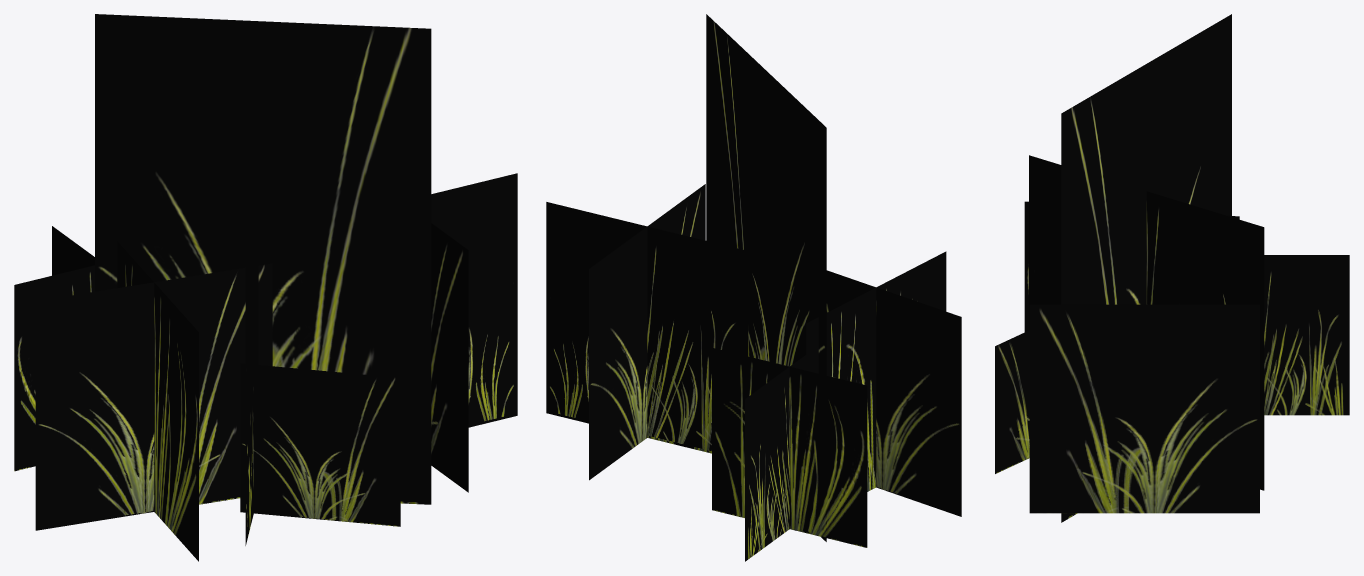
The model's file is grass_patch2.fbx.
The picture shows the model from 3 angles, left to right: view 1: azimuth 30°, elevation 25°; view 2: azimuth 150°, elevation 25°; view 3: azimuth 270°, elevation 25°; orthographic projection. The views are drawn at different scales.
Visible parts, largest first — view 1: Plane.001; view 2: Plane.001; view 3: Plane.001.
Boxes of the visible parts, x1=… form: Plane.001: x1=14, y1=14, x2=517, y2=561; Plane.001: x1=546, y1=14, x2=961, y2=561; Plane.001: x1=995, y1=14, x2=1349, y2=522.
Bounding box in the file's own units: 61.2 × 58.09 × 46.22.
